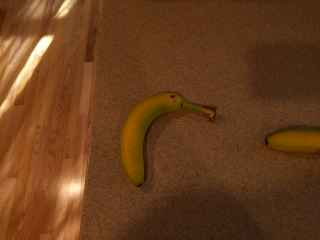banana: (111, 83, 220, 192), (263, 119, 320, 165)
